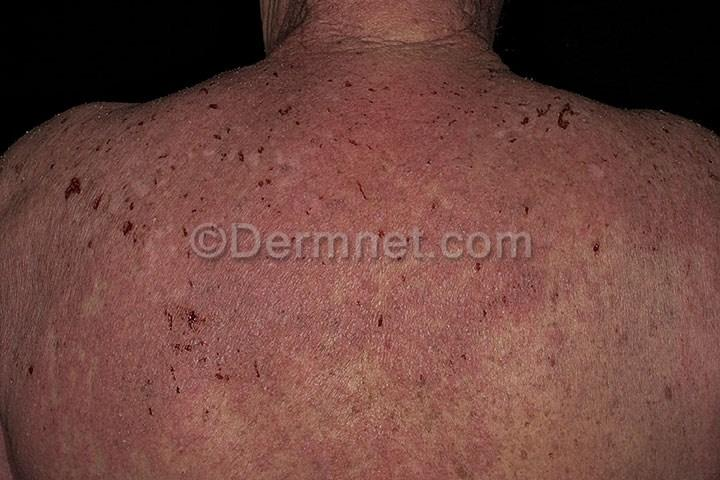eritema 3: (0, 0, 719, 479)
exudacion 2: (0, 63, 719, 426)
xerosis 1: (0, 63, 265, 169)
